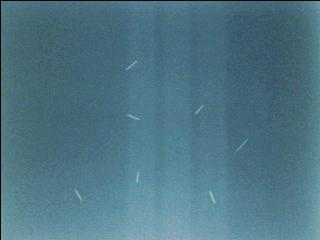scratch: (232, 137, 250, 157), (205, 185, 219, 208), (124, 57, 140, 71), (124, 111, 144, 122), (73, 186, 85, 203), (193, 103, 205, 117), (135, 167, 143, 186)
